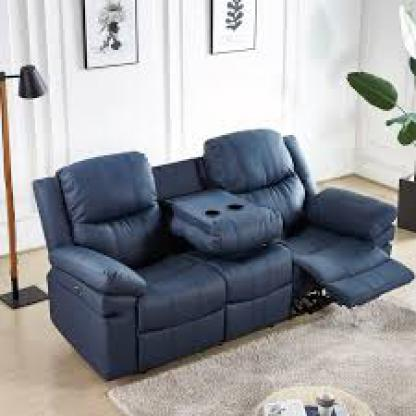sofa: (39, 126, 397, 383)
